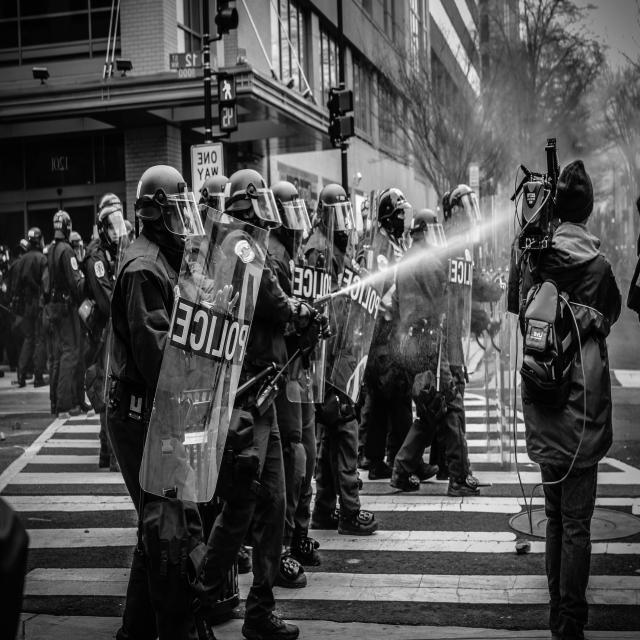adult: (108, 158, 228, 640), (513, 159, 621, 640), (210, 171, 308, 640), (387, 212, 482, 492), (311, 186, 374, 532), (359, 186, 412, 463), (83, 208, 127, 408), (46, 210, 82, 416), (16, 226, 46, 385)
